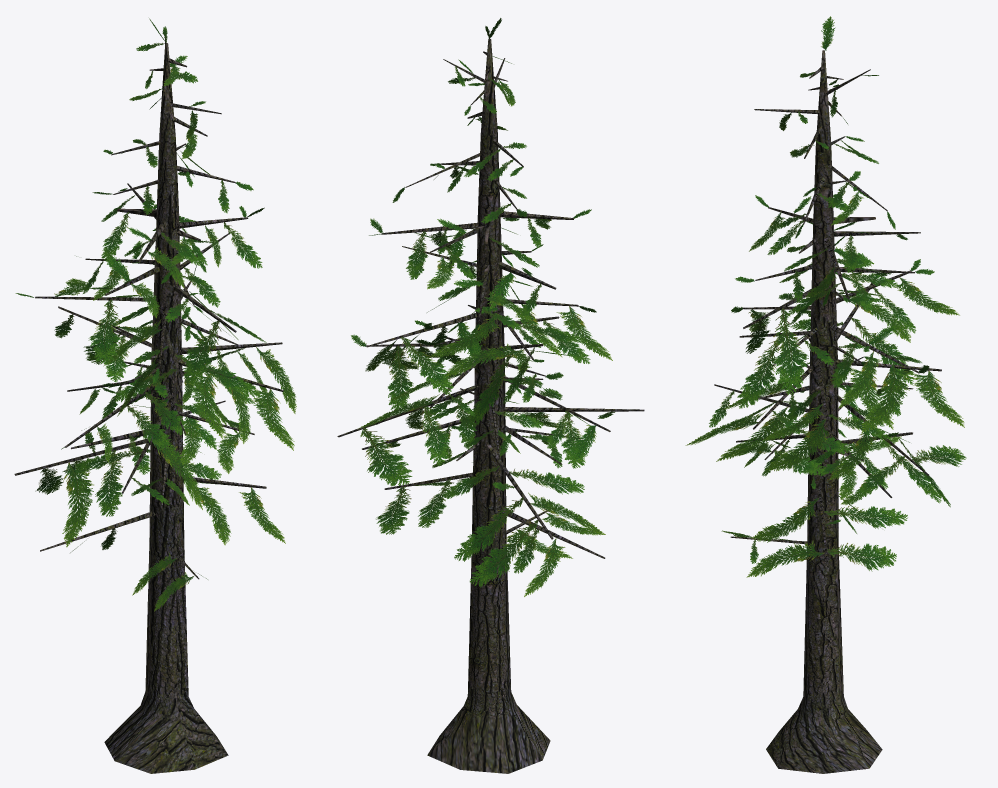
Rendered from douglasfir.fbx.
3 views of the same model, side by side, from view 1: azimuth 30°, elevation 25°; view 2: azimuth 150°, elevation 25°; view 3: azimuth 270°, elevation 25° (orthographic).
Visible parts, largest first — view 1: Tree; view 2: Tree; view 3: Tree.
Part boxes in pixels (left/top/right/bottom): Tree: left=14, top=18, right=296, bottom=773; Tree: left=337, top=18, right=644, bottom=773; Tree: left=685, top=16, right=966, bottom=773.
Size of the model in its own units: 2545 by 7436 by 2871.
